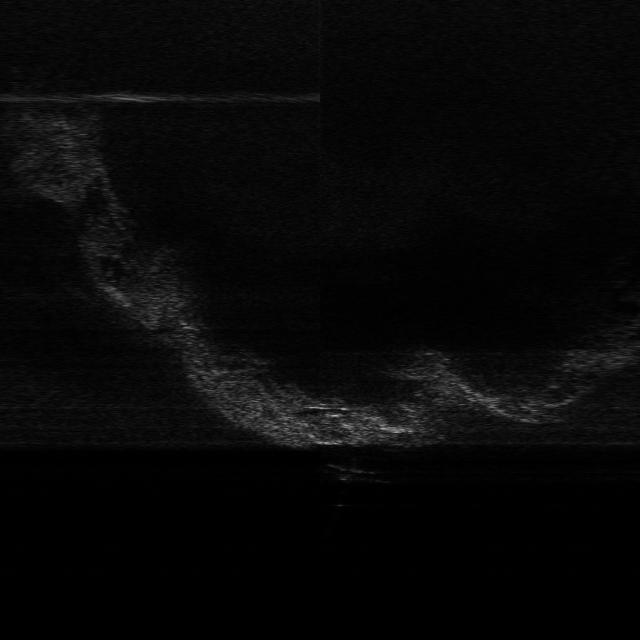plane: (318, 462, 393, 485)
